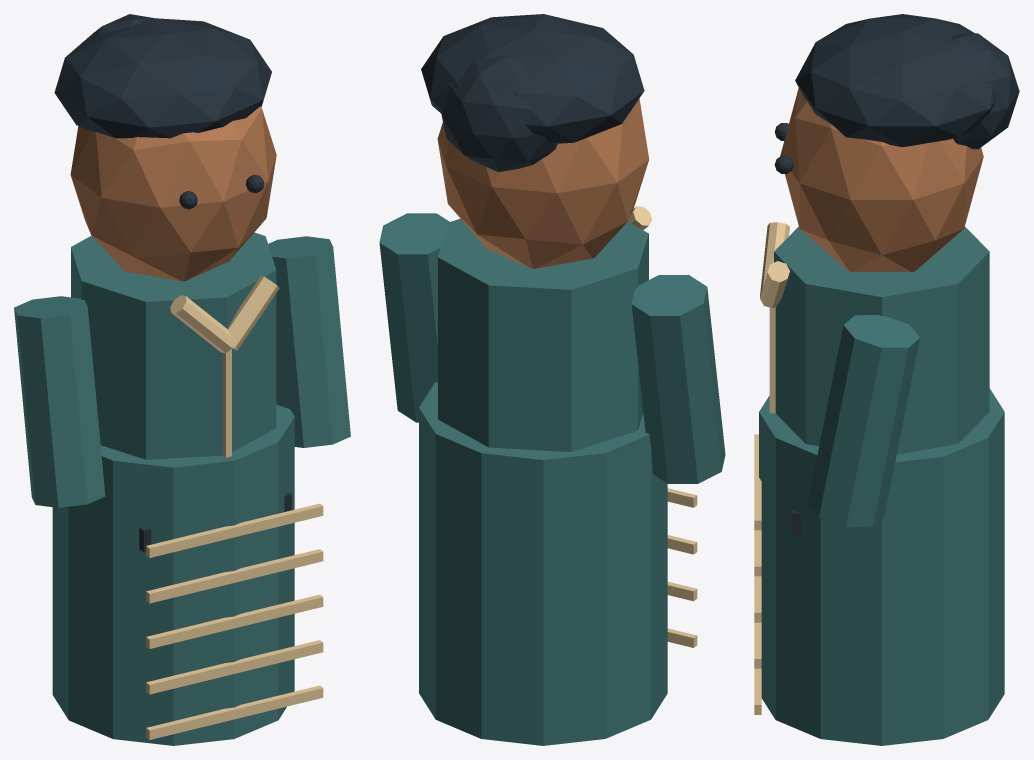
File: period-visitors.glb
3 renders of one model, left to right at view 1: azimuth 30°, elevation 25°; view 2: azimuth 150°, elevation 25°; view 3: azimuth 270°, elevation 25°, orthographic. The views are drawn at different scales.
Visible parts, largest first — view 1: period_visitor_0 #407776, period_visitor_1 #407776, period_visitor_0 #b67b52, period_visitor_0 #28343e, period_visitor_1 #e5c998, period_visitor_0 #e5c998; view 2: period_visitor_1 #407776, period_visitor_0 #407776, period_visitor_0 #b67b52, period_visitor_0 #28343e, period_visitor_1 #28343e, period_visitor_1 #e5c998; view 3: period_visitor_1 #407776, period_visitor_0 #407776, period_visitor_0 #b67b52, period_visitor_0 #28343e, period_visitor_1 #28343e, period_visitor_0 #e5c998, period_visitor_1 #e5c998.
Part boxes in pixels (left/top/right/bottom): period_visitor_0 #407776: left=14, top=232, right=350, bottom=507; period_visitor_1 #407776: left=15, top=301, right=294, bottom=745; period_visitor_0 #b67b52: left=70, top=106, right=276, bottom=281; period_visitor_0 #28343e: left=54, top=18, right=291, bottom=552; period_visitor_1 #e5c998: left=146, top=503, right=323, bottom=739; period_visitor_0 #e5c998: left=170, top=275, right=279, bottom=457; period_visitor_1 #407776: left=419, top=275, right=698, bottom=745; period_visitor_0 #407776: left=379, top=213, right=725, bottom=483; period_visitor_0 #b67b52: left=437, top=98, right=649, bottom=268; period_visitor_0 #28343e: left=421, top=14, right=644, bottom=143; period_visitor_1 #28343e: left=441, top=56, right=557, bottom=172; period_visitor_1 #e5c998: left=667, top=488, right=697, bottom=647; period_visitor_1 #407776: left=759, top=388, right=1004, bottom=745; period_visitor_0 #407776: left=774, top=226, right=989, bottom=526; period_visitor_0 #b67b52: left=780, top=88, right=983, bottom=271; period_visitor_0 #28343e: left=774, top=14, right=996, bottom=535; period_visitor_1 #28343e: left=952, top=33, right=1019, bottom=149; period_visitor_0 #e5c998: left=760, top=222, right=789, bottom=413; period_visitor_1 #e5c998: left=754, top=434, right=761, bottom=714.
Bounding box in the file's own units: 0.61 × 1.23 × 0.443.
